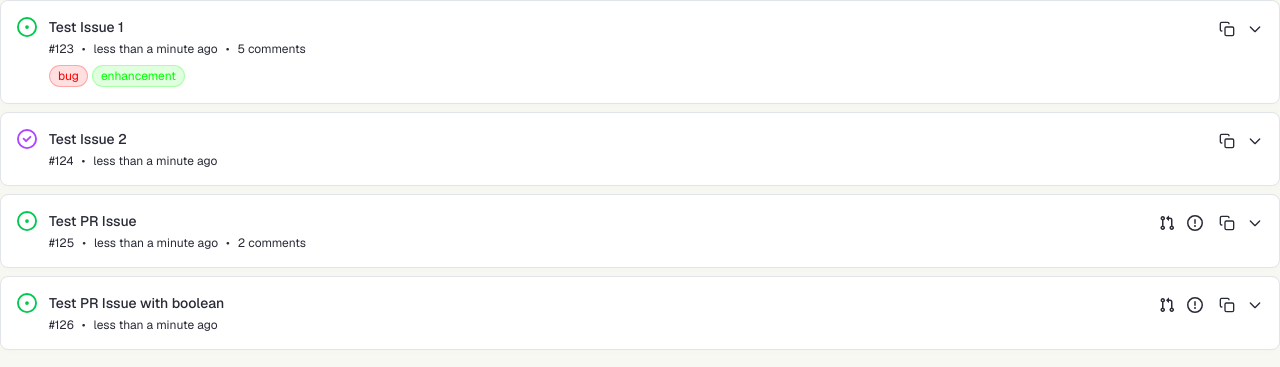
Test case: IssuesList › Copy URL functionality › shows success feedback after copying
Click the button titled "Copy GitHub URL": click(1227, 29) top-left (1215, 17), bottom-right (1239, 41)
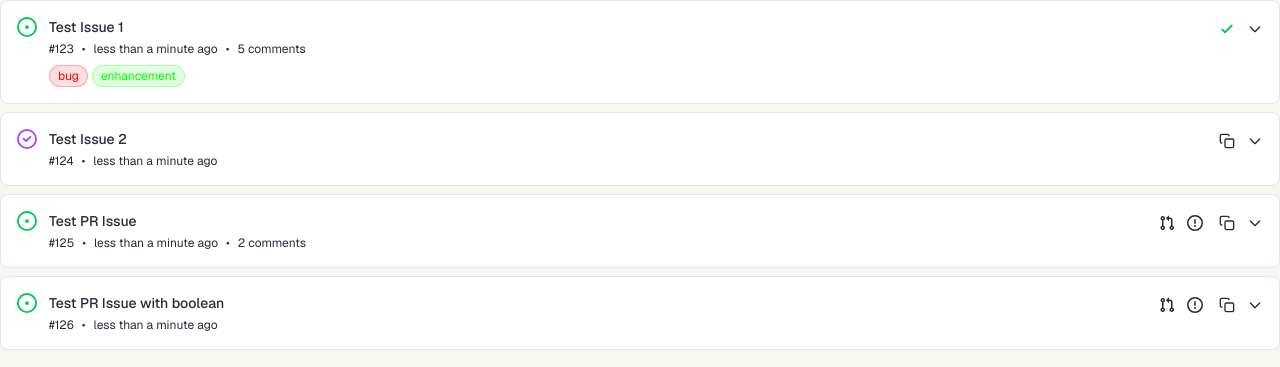
Now the button named "URL copied!" is shown, box top-left (1215, 17), bottom-right (1239, 41)
